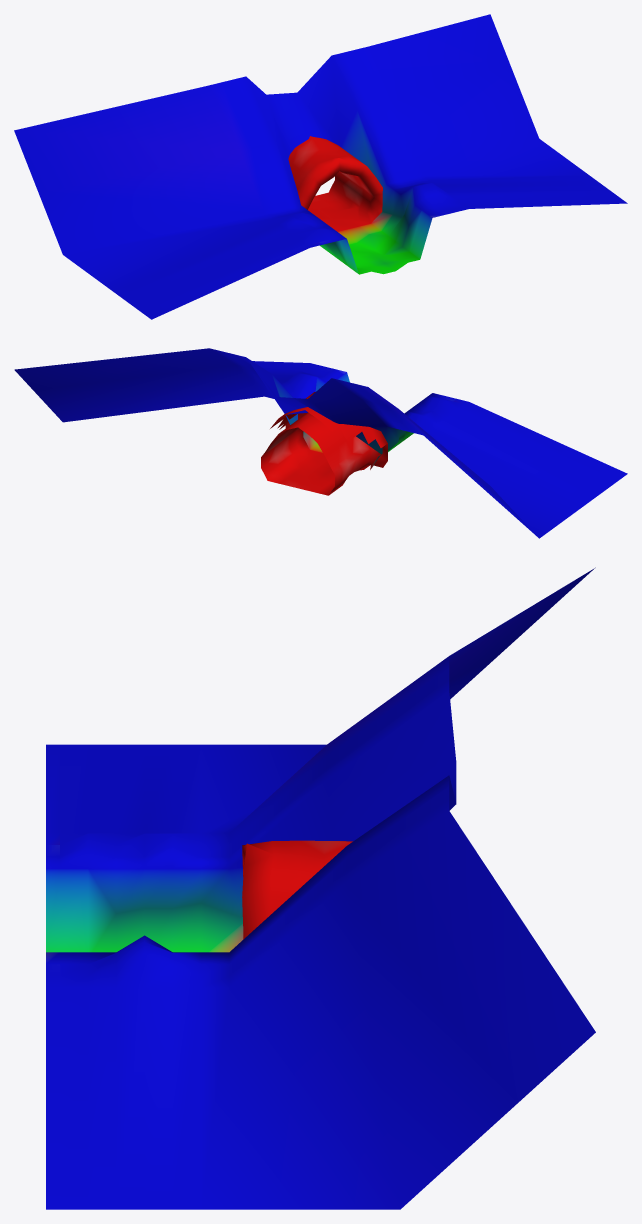
The model's file is Doto_landspace4.fbx.
3 renders of one model, top to bottom at view 1: azimuth 30°, elevation 25°; view 2: azimuth 150°, elevation 25°; view 3: azimuth 270°, elevation 25°, orthographic. The views are drawn at different scales.
Visible parts, largest first — view 1: Plane.008; view 2: Plane.008; view 3: Plane.008.
Part boxes in pixels (left/top/right/bottom): Plane.008: left=14, top=14, right=627, bottom=319; Plane.008: left=14, top=348, right=627, bottom=538; Plane.008: left=46, top=567, right=595, bottom=1209.
Bounding box in the file's own units: 45000 × 12500 × 22500.
